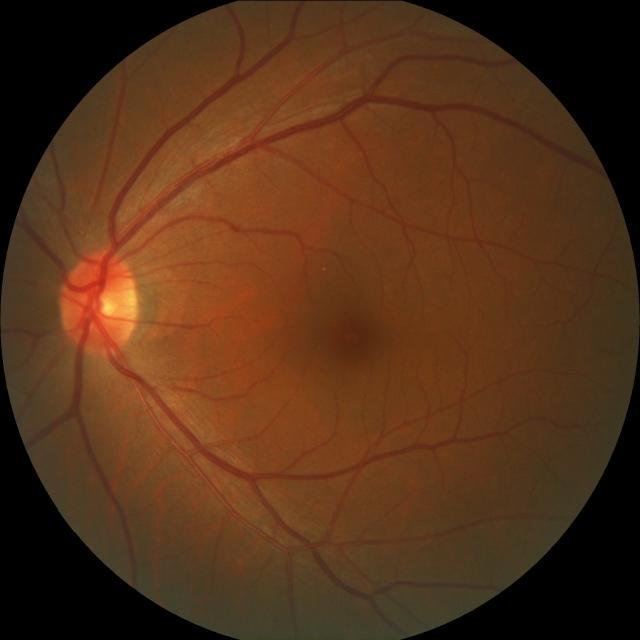OC: (92, 293, 115, 316)
OD: (62, 256, 142, 356)
